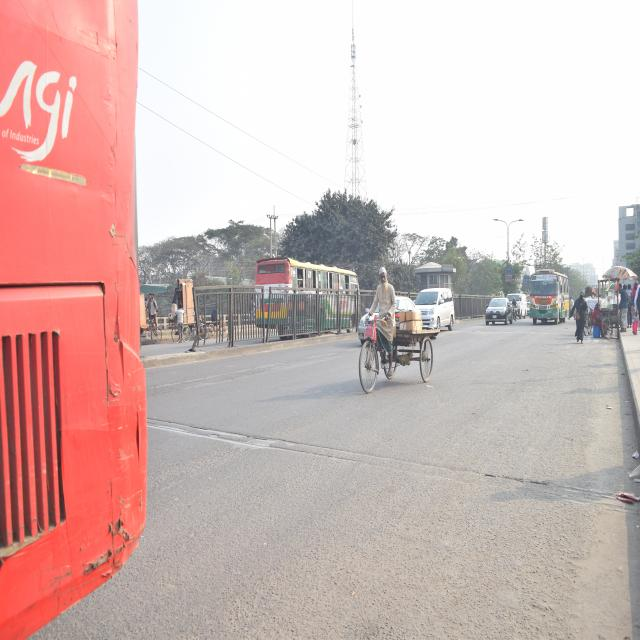bus: (0, 0, 146, 640), (247, 252, 362, 338), (528, 266, 570, 324)
car: (484, 294, 512, 330)
microbus: (416, 283, 456, 333), (507, 291, 528, 317)
motorbike: (512, 301, 518, 321)
